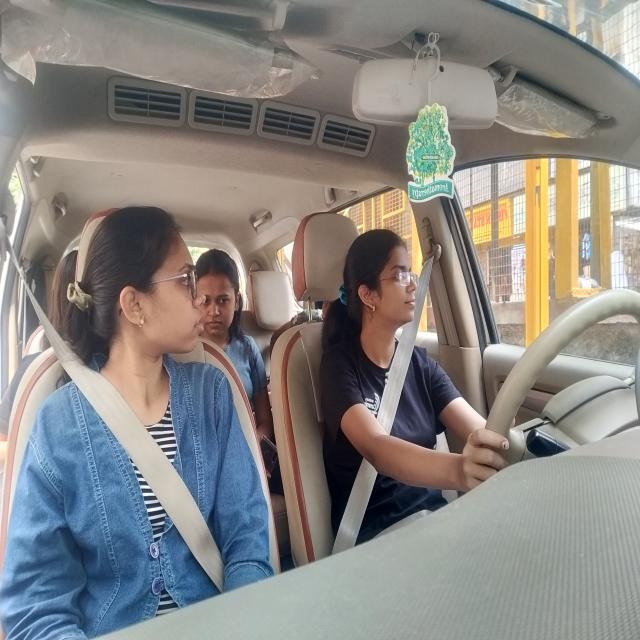LeftRight: (342, 220, 419, 354)
person: (89, 198, 208, 376), (196, 244, 248, 350)
